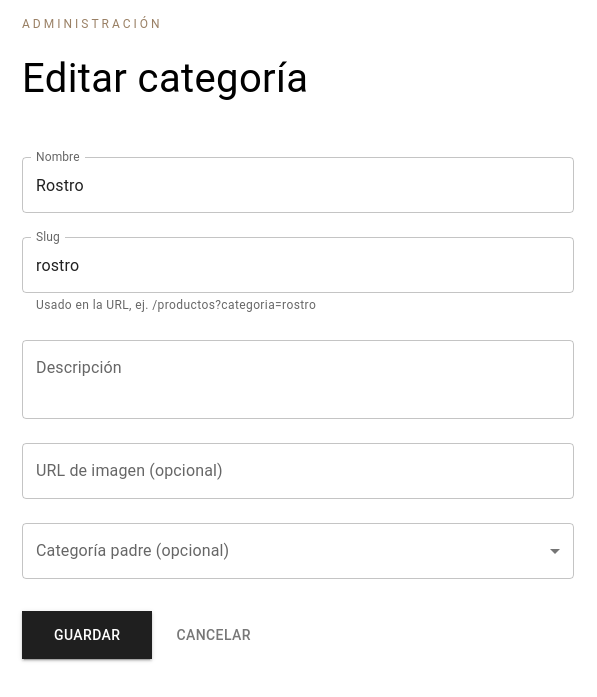
Test: AdminCategoryForm › excludes the category being edited from its own parent options
The width and height of the screenshot is (597, 697).
Expected: the field showing "Rostro" is shown, [22,157,574,213]
Click the dropdown named "categoría padre".
click(298, 551)  # box [22,523,574,579]
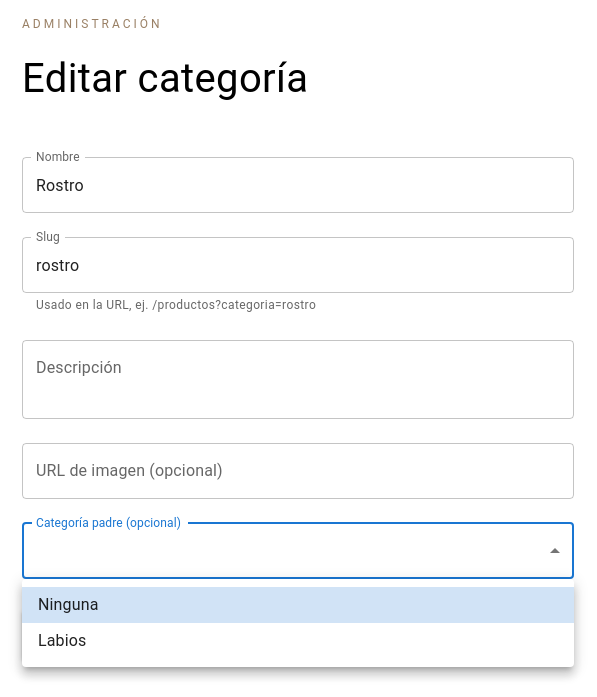
Expected: the option "Labios" is shown, [38,631,86,650]
